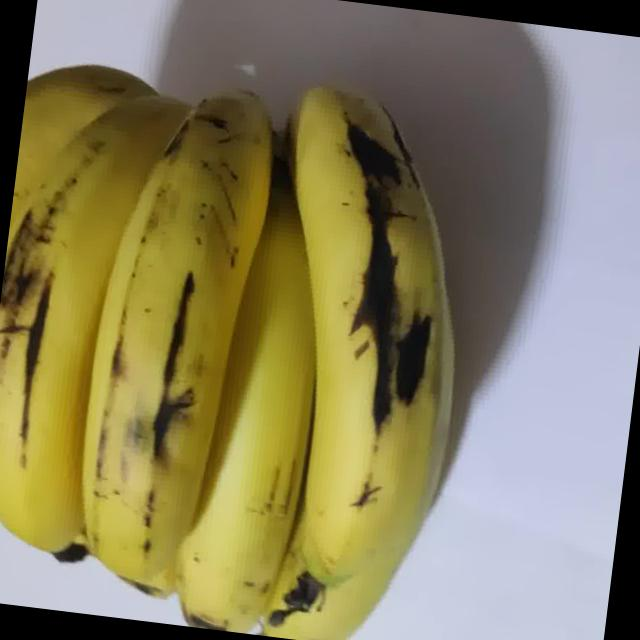banana_pacche: (0, 0, 559, 640)
